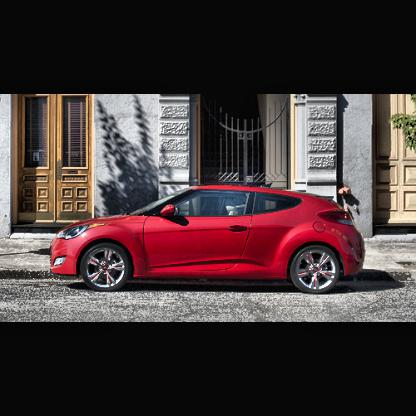Hyundai Veloster Hatchback 2012: (49, 184, 368, 297)
